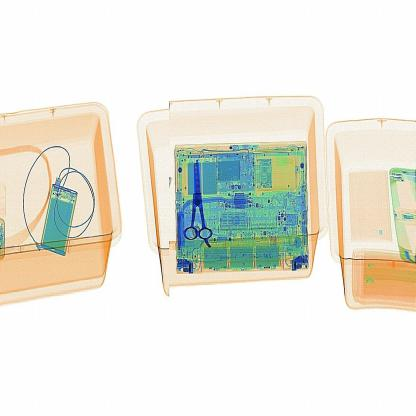gun: (178, 146, 214, 264)
